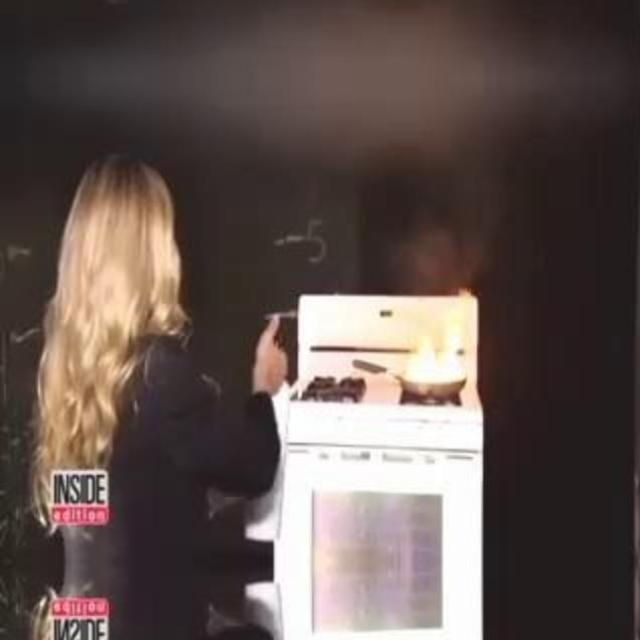smoke: (398, 280, 476, 390)
